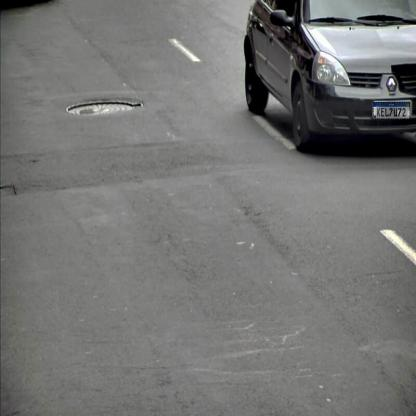PlacaM: (373, 102, 410, 119)
